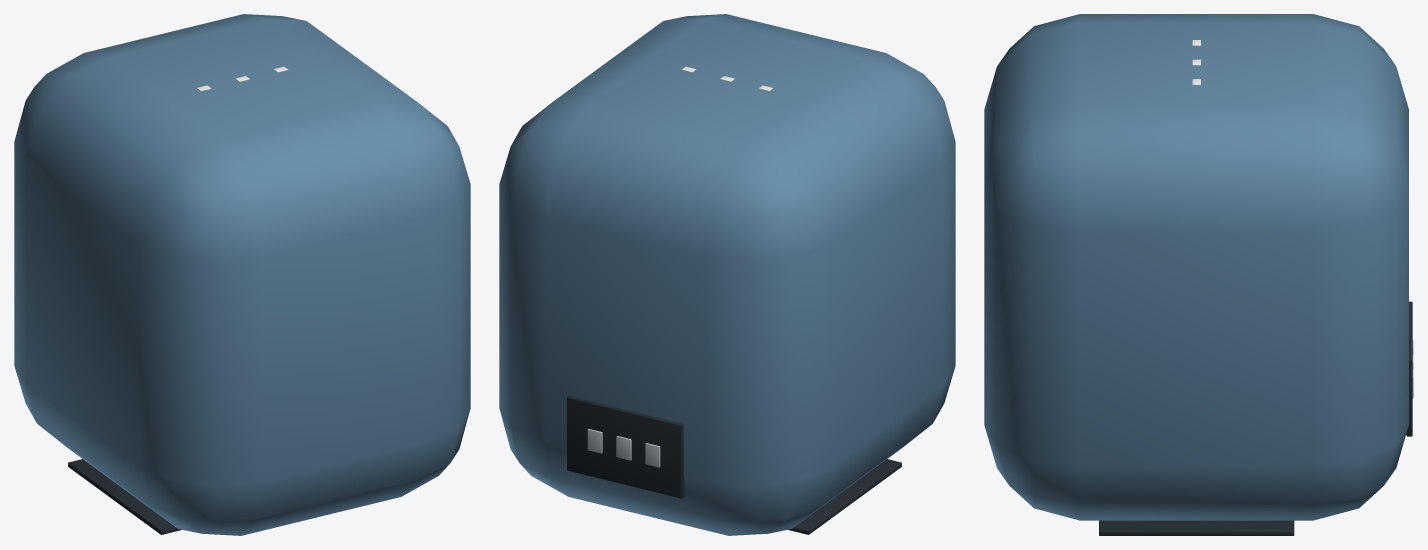
Rendered from subwoofer.glb.
The picture shows the model from 3 angles, left to right: view 1: azimuth 30°, elevation 25°; view 2: azimuth 150°, elevation 25°; view 3: azimuth 270°, elevation 25°; orthographic projection. The views are drawn at different scales.
Visible parts, largest first — view 1: subwoofer; view 2: subwoofer; view 3: subwoofer.
Boxes of the visible parts, box(x1,y1,x2,y2) form: subwoofer: box(14, 14, 470, 535); subwoofer: box(499, 14, 955, 535); subwoofer: box(984, 14, 1413, 535).
Size of the model in its own units: 0.36 by 0.42 by 0.4.
